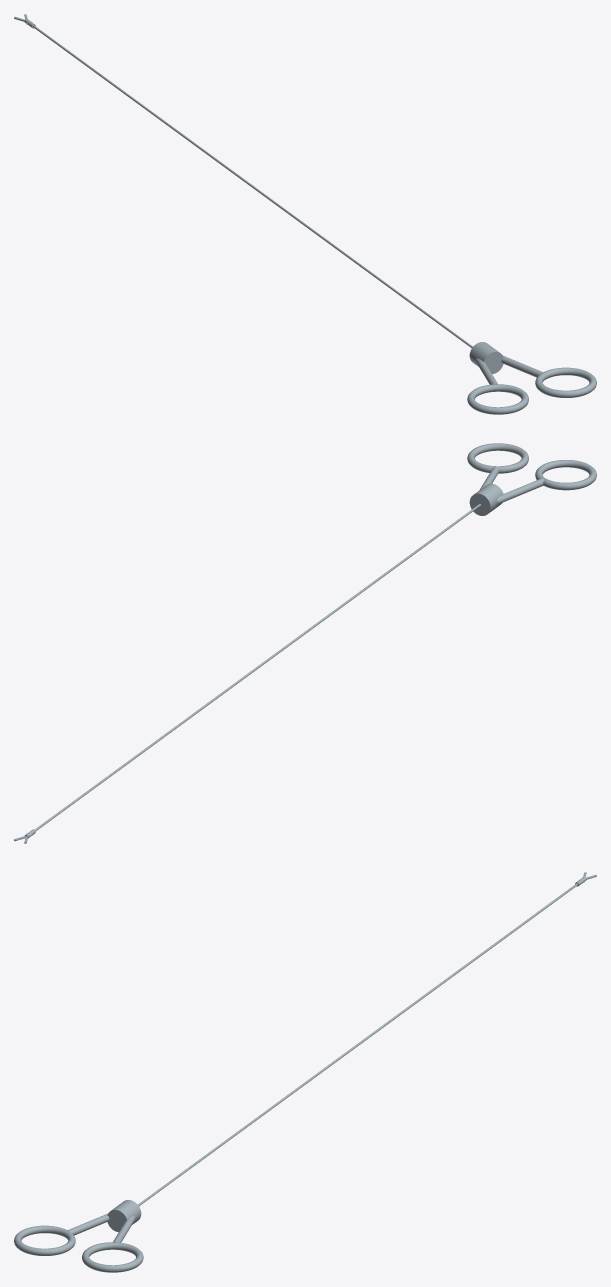
File: semi-rigid-grasping-forceps-bps2002-15c7d0d8bd6c.glb
The picture shows the model from 3 angles, top to bottom: view 1: azimuth 30°, elevation 25°; view 2: azimuth 150°, elevation 25°; view 3: azimuth 330°, elevation 25°; orthographic projection.
Visible parts, largest first — view 1: Forceps_Semi_Rigid_Shaft, Finger_Ring_R, Finger_Ring_L, Forceps_Handle_Hub; view 2: Forceps_Semi_Rigid_Shaft, Finger_Ring_L, Finger_Ring_R, Forceps_Handle_Hub; view 3: Forceps_Semi_Rigid_Shaft, Finger_Ring_L, Finger_Ring_R, Forceps_Handle_Hub.
Boxes of the visible parts, left/top/right/bottom form: Forceps_Semi_Rigid_Shaft: left=33, top=25, right=472, bottom=348; Finger_Ring_R: left=535, top=367, right=596, bottom=397; Finger_Ring_L: left=467, top=384, right=528, bottom=414; Forceps_Handle_Hub: left=469, top=342, right=503, bottom=374; Forceps_Semi_Rigid_Shaft: left=34, top=504, right=480, bottom=831; Finger_Ring_L: left=535, top=460, right=596, bottom=490; Finger_Ring_R: left=467, top=443, right=528, bottom=473; Forceps_Handle_Hub: left=469, top=483, right=503, bottom=515; Forceps_Semi_Rigid_Shaft: left=138, top=883, right=577, bottom=1206; Finger_Ring_L: left=14, top=1225, right=75, bottom=1255; Finger_Ring_R: left=82, top=1242, right=143, bottom=1272; Forceps_Handle_Hub: left=107, top=1200, right=141, bottom=1232.
Bounding box in the file's own units: 0.093 × 0.016 × 0.7001.
